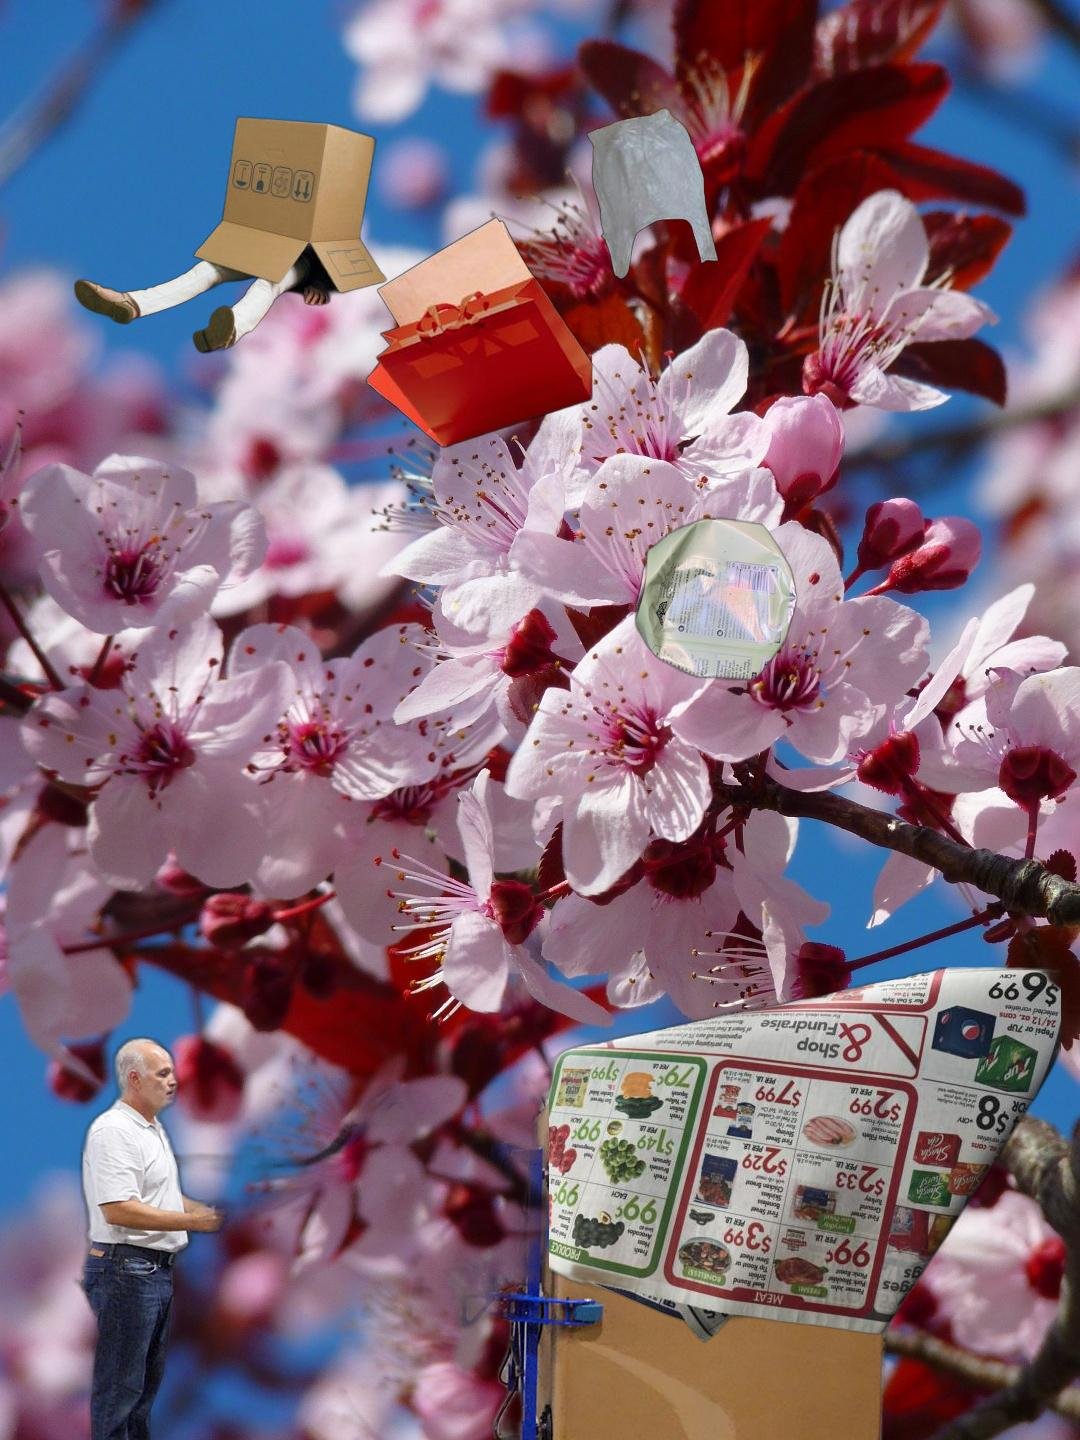metal-cans: (630, 511, 802, 686)
paper: (549, 967, 1061, 1345)
paper-bag: (363, 214, 594, 451)
plastic-bag: (587, 105, 720, 282)
trashbox-cardboard: (66, 1031, 906, 1440), (70, 113, 391, 356), (1066, 960, 1080, 1344)
